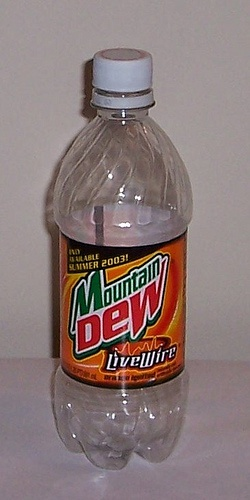emptybottle: (52, 48, 189, 465)
